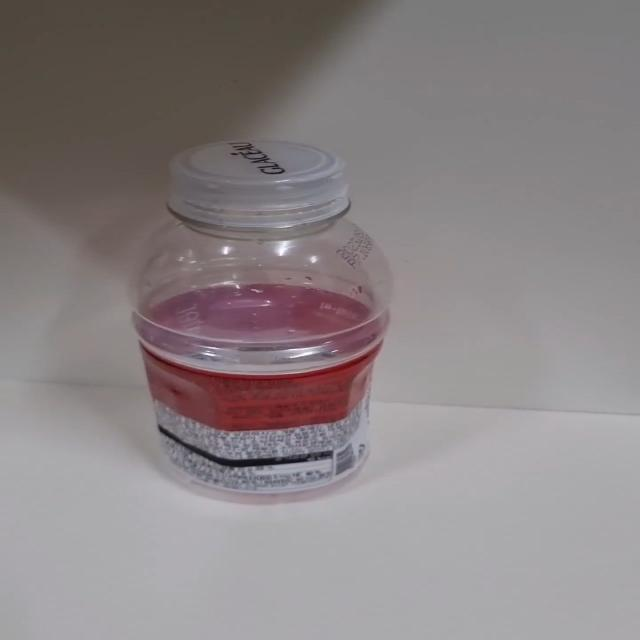Plastic: (130, 140, 394, 506)
